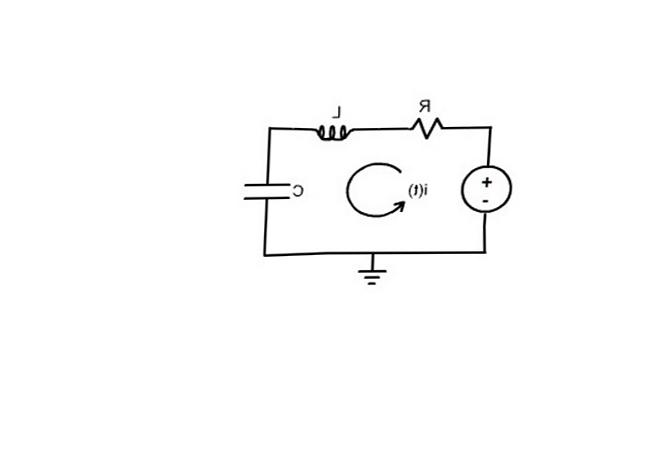Battery: (443, 154, 522, 222)
